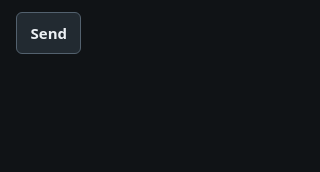
Test: command controls › locks synchronous duplicate commands and reports failures inline
Later steps or results of the test are not shown.
Click the button "Send". click: point(49, 33)
box: [16,12,82,54]
Click the button "Send". click: point(49, 33)
box: [16,12,82,54]
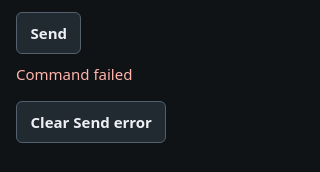
Result: the message reads "Command failed" at [16,64,132,84]
Click the button "Clear Send error". click: point(91, 122)
box: [16,101,166,143]
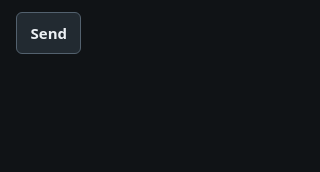
Result: the message "Command failed" is gone
